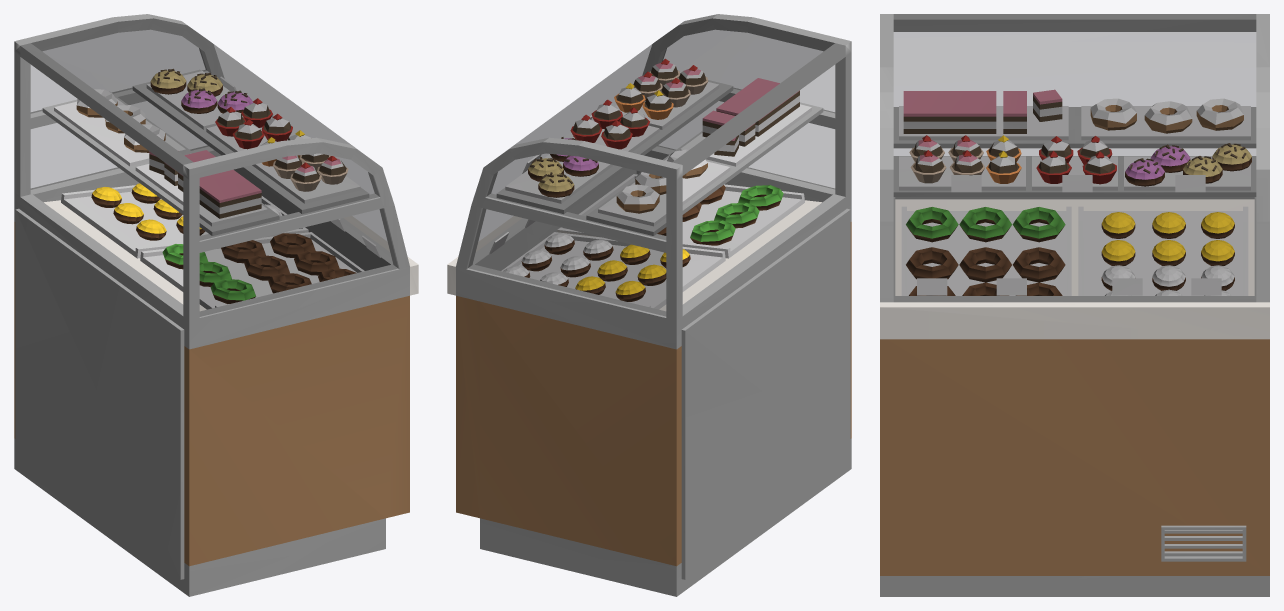
The model's file is SM_donutsCounter_02.glb.
The picture shows the model from 3 angles, left to right: view 1: azimuth 30°, elevation 25°; view 2: azimuth 150°, elevation 25°; view 3: azimuth 270°, elevation 25°; orthographic projection. The views are drawn at different scales.
Visible parts, largest first — view 1: SM_donutsCounter_02; view 2: SM_donutsCounter_02; view 3: SM_donutsCounter_02.
Boxes of the visible parts, x1=… form: SM_donutsCounter_02: x1=14, y1=14, x2=418, y2=596; SM_donutsCounter_02: x1=447, y1=14, x2=851, y2=596; SM_donutsCounter_02: x1=880, y1=14, x2=1269, y2=596.
Size of the model in its own units: 0.7689 by 1.35 by 1.
Materials: 2 (1 with a texture image).
